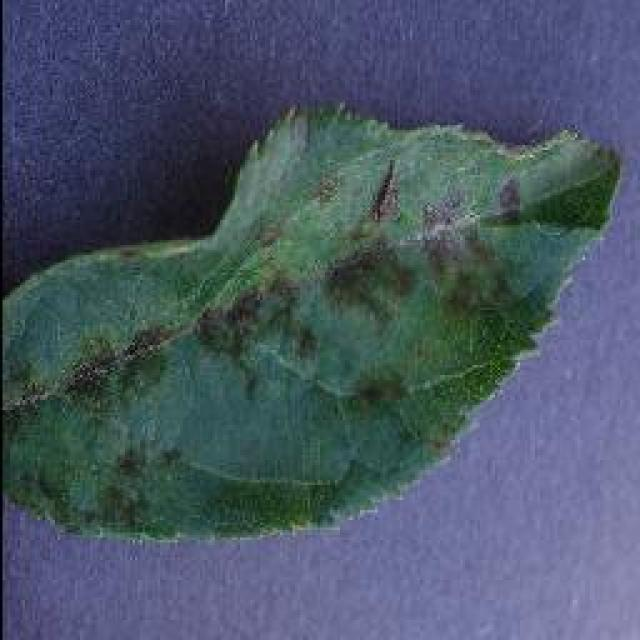apple scab disease: (0, 98, 620, 542)
